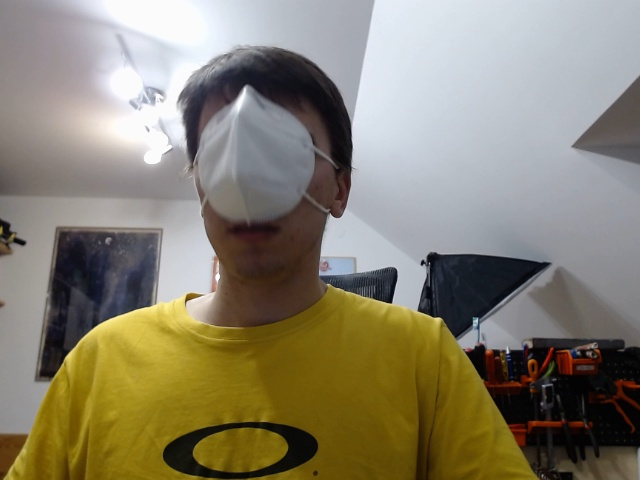WrongMask: (177, 43, 352, 286)
